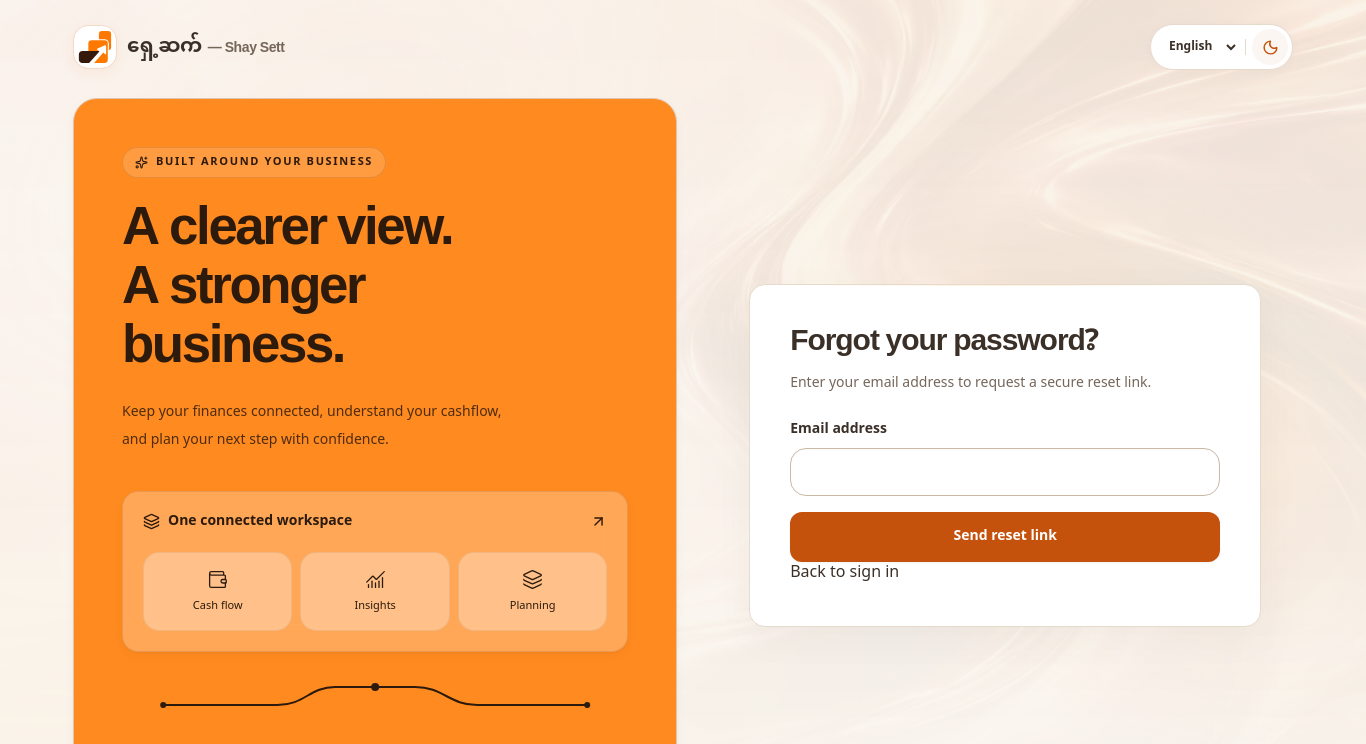
Scenario: Account UI › shows a service error before submitting a password recovery request
Type "owner@example.test" into the field labelled "Email address" at coordinates (1005, 472), box 790,448 -> 1220,496
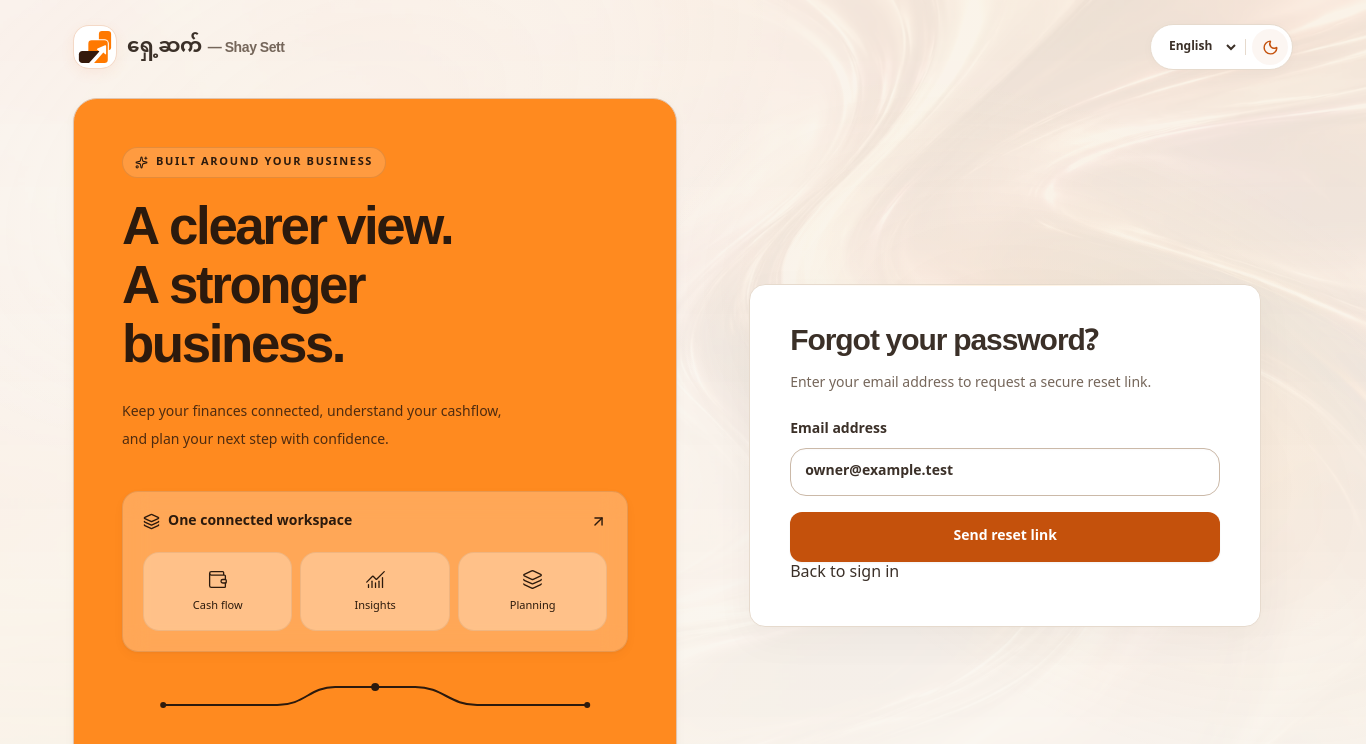
Click the button "Send reset link" at coordinates (1005, 537), box 790,512 -> 1220,562
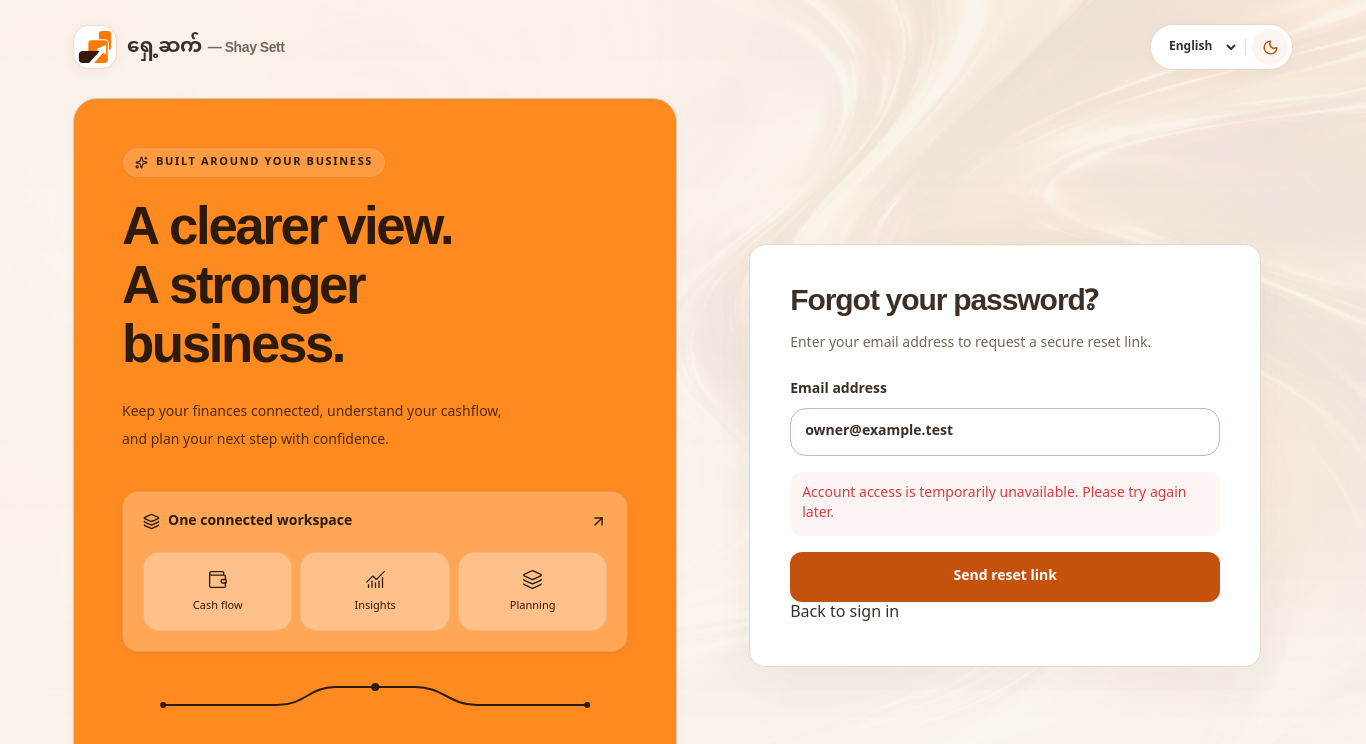
Now the message shows "Account access is temporarily unavailable", box 802,478 -> 1186,529
